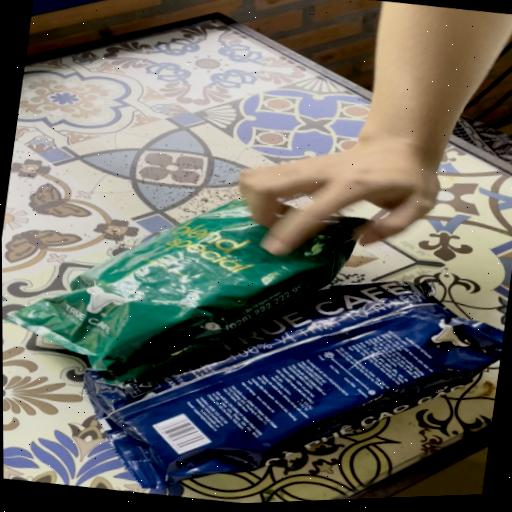cafe_hat: (85, 281, 504, 489)
cafe_xay: (8, 200, 366, 384)
